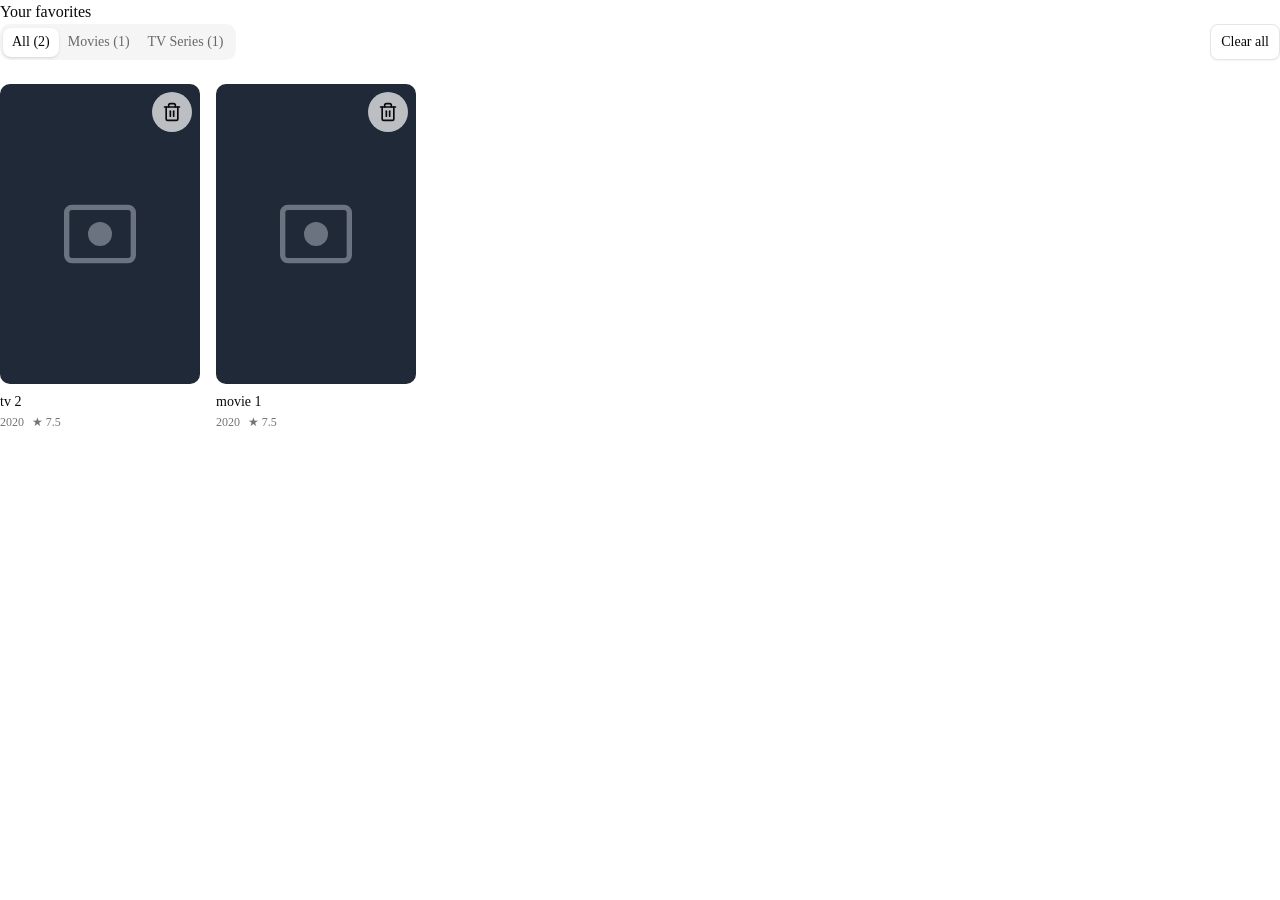
Test: FavoritesView › clear all › clears only after confirmation and focuses the Discover link
Click the button "Clear all". click: [1245, 42]
box: top-left (1210, 24), bottom-right (1279, 60)
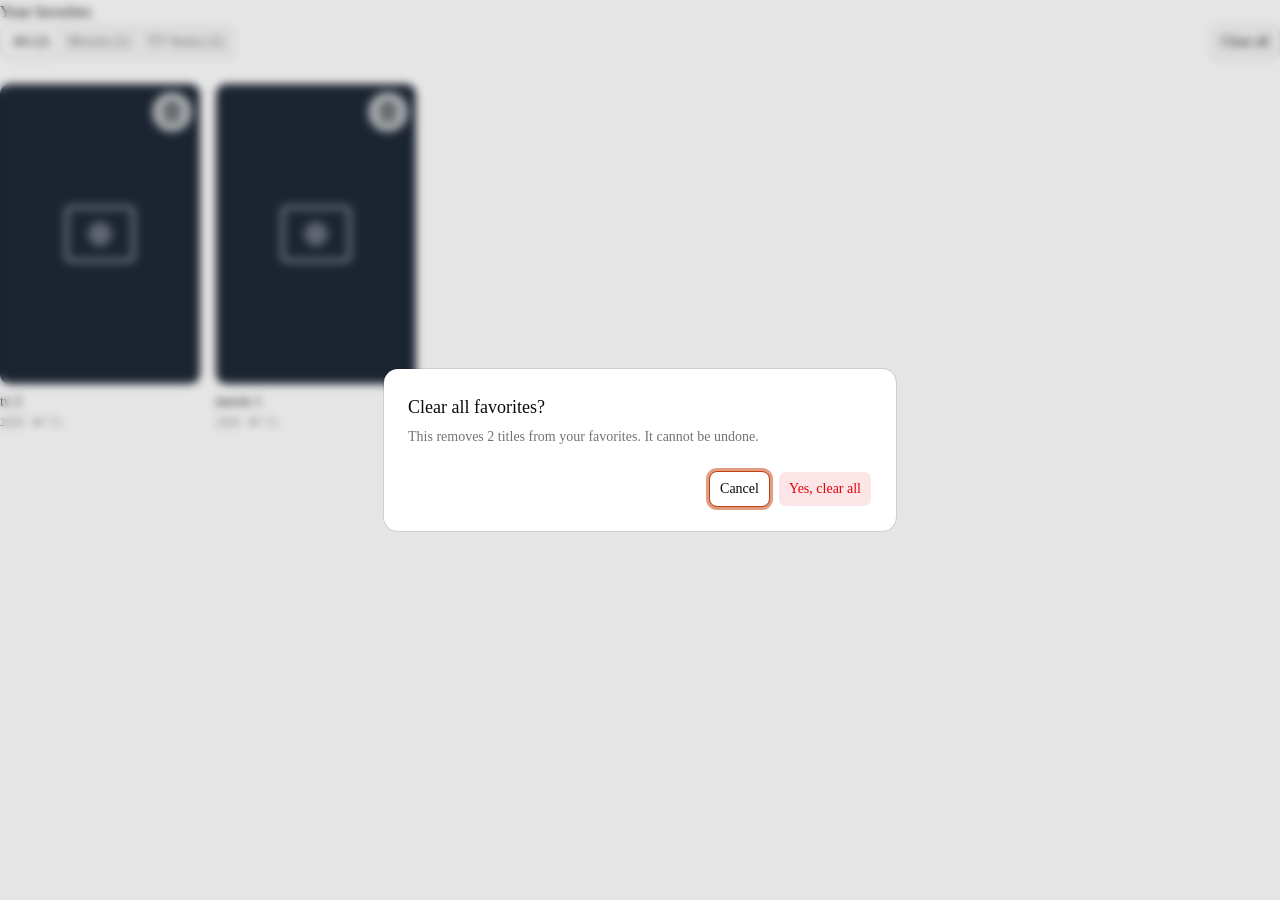
Click the button "Yes, clear all". click: [825, 489]
box: top-left (778, 471), bottom-right (872, 507)
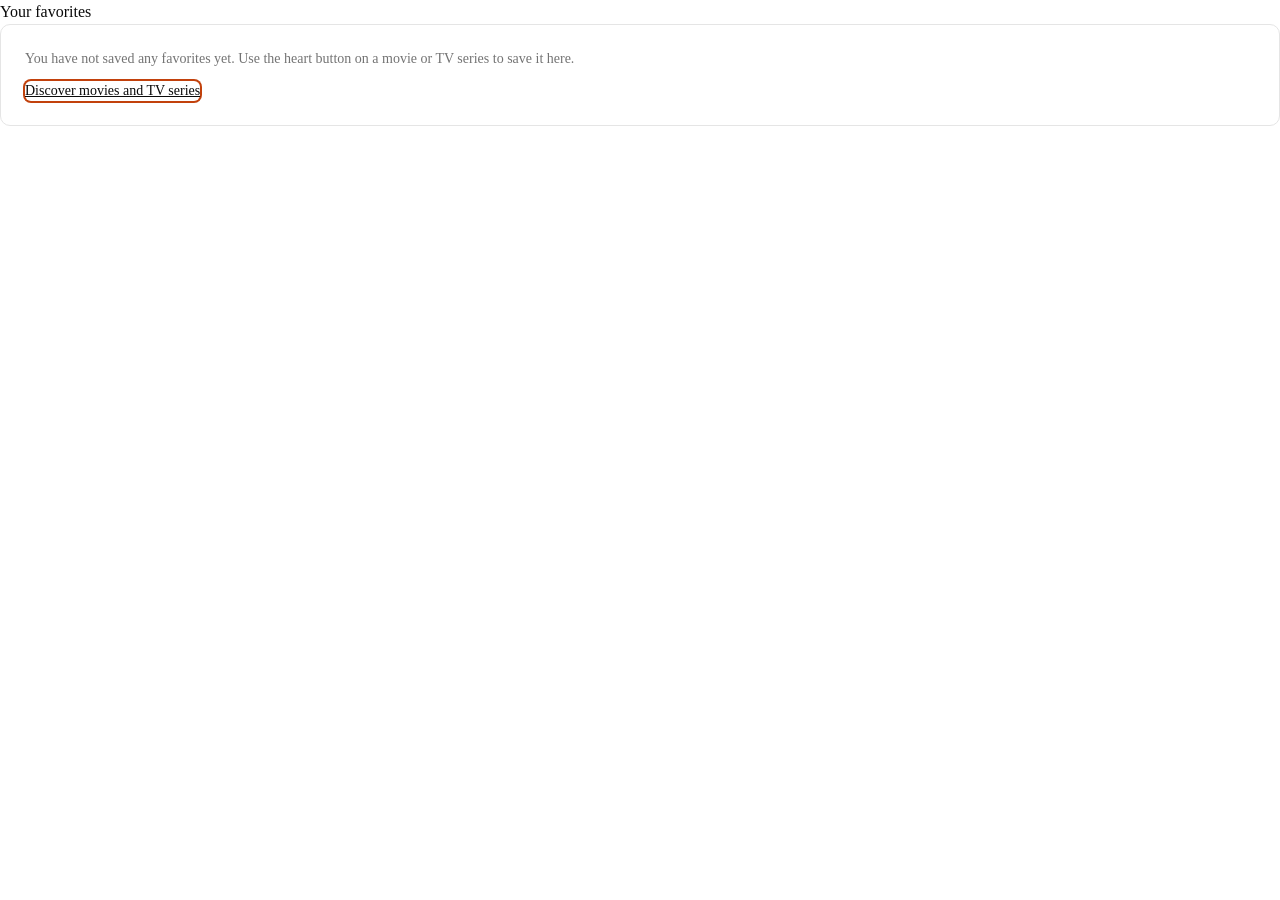
Expected: the button "Clear all" is gone
